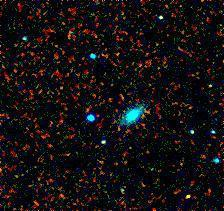star: (178, 181, 208, 211)
